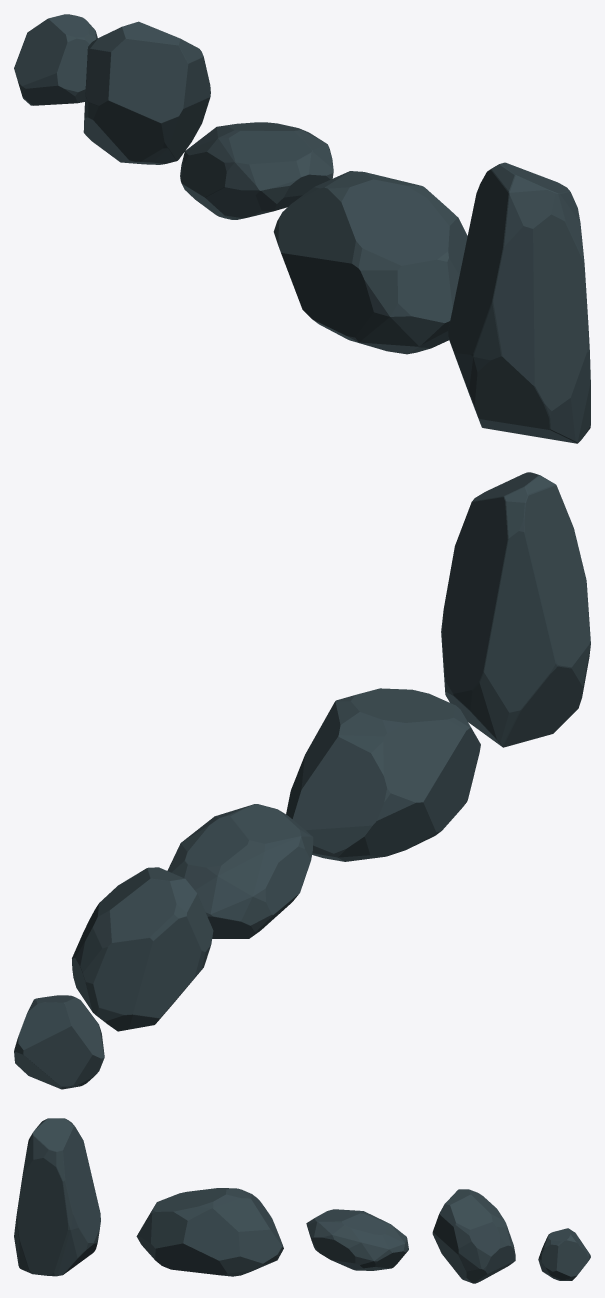
The model's file is stones.fbx.
3 views of the same model, one above another, from view 1: azimuth 30°, elevation 25°; view 2: azimuth 150°, elevation 25°; view 3: azimuth 270°, elevation 25° (orthographic). The views are drawn at different scales.
Visible parts, largest first — view 1: Icosphere, Icosphere.001, Icosphere.003, Icosphere.002, Icosphere.004; view 2: Icosphere, Icosphere.001, Icosphere.003, Icosphere.002, Icosphere.004; view 3: Icosphere, Icosphere.001, Icosphere.003, Icosphere.002, Icosphere.004.
Part boxes in pixels (x1,y1,x2,y2): Icosphere: (448,162,590,443); Icosphere.001: (273,171,467,354); Icosphere.003: (83,21,210,164); Icosphere.002: (180,122,333,219); Icosphere.004: (14,14,97,105); Icosphere: (441,472,590,747); Icosphere.001: (286,688,480,861); Icosphere.003: (72,867,213,1031); Icosphere.002: (167,804,313,938); Icosphere.004: (14,995,104,1089); Icosphere: (14,1118,100,1276); Icosphere.001: (136,1188,283,1276); Icosphere.003: (432,1189,515,1283); Icosphere.002: (306,1209,408,1270); Icosphere.004: (538,1228,590,1280).
Bounding box in the file's own units: 216 × 406 × 1362.
